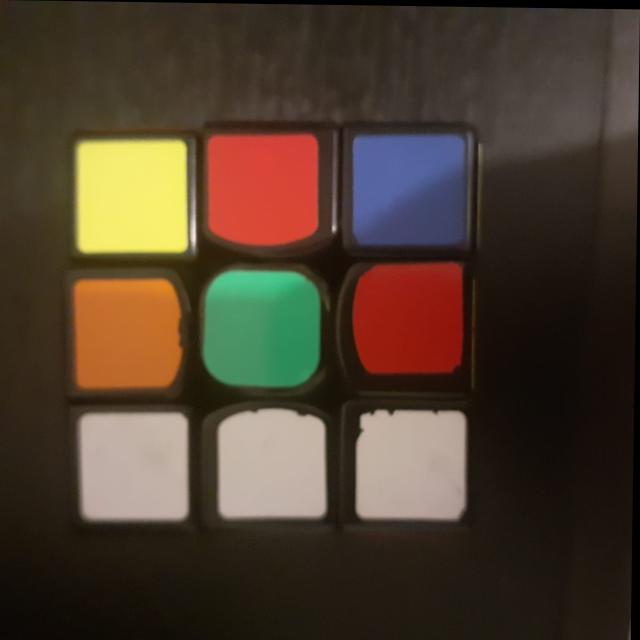Green: (203, 270, 327, 392)
Orange: (68, 275, 196, 402)
Red: (347, 124, 479, 254), (337, 265, 469, 384), (204, 128, 332, 250)
White: (212, 407, 335, 530), (73, 408, 196, 527), (350, 407, 471, 527)
Yellow: (71, 138, 198, 261)
